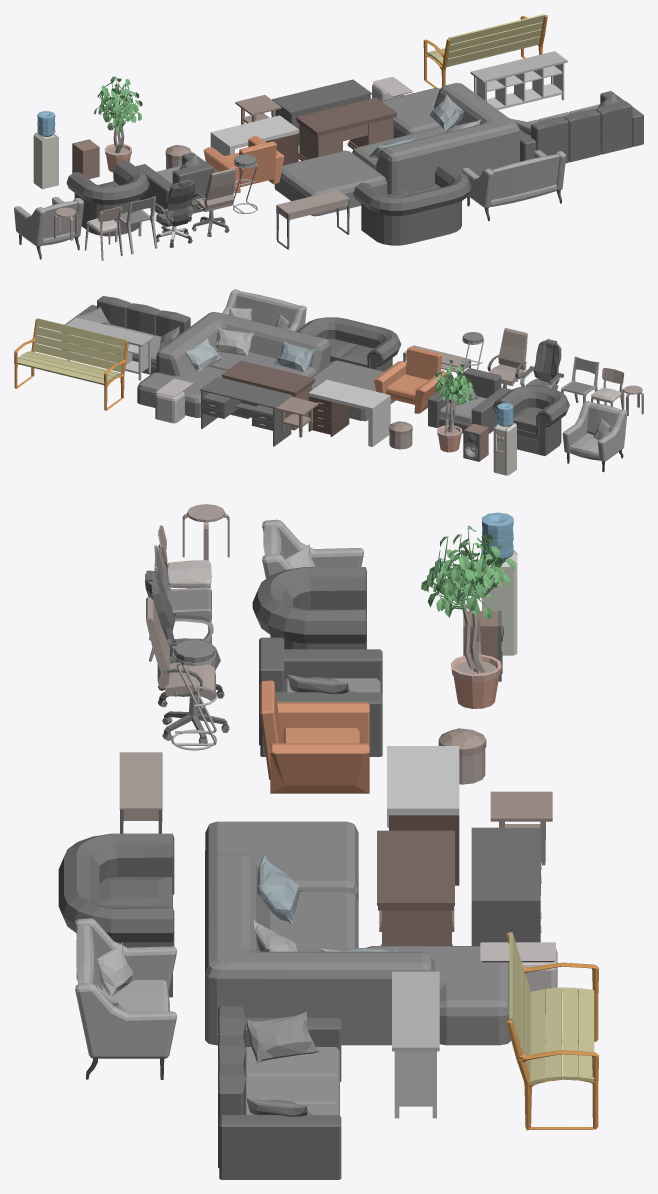
File: props1.glb
3 renders of one model, top to bottom at view 1: azimuth 30°, elevation 25°; view 2: azimuth 150°, elevation 25°; view 3: azimuth 270°, elevation 25°, orthographic. The views are drawn at different scales.
Parts seen in each view (by area): view 1: furniture_couch_corner, furniture_chair_styled, furniture_couch_basic, furniture_desk_office.001, furniture_chair_basic, furniture_table_cubby, furniture_bench_outdoor, furniture_chair_styled.001, furniture_desk_office.002, furniture_chair_basic.002, furniture_desk_office, prop_tree (+13 smaller); view 2: furniture_couch_corner, furniture_bench_outdoor, furniture_desk_office, furniture_desk_office.002, furniture_chair_styled.001, furniture_chair_styled, furniture_couch_basic, furniture_chair_basic.002, furniture_chair_lazyboy, furniture_chair_basic.001, furniture_chair_basic, furniture_desk_office.001 (+13 smaller); view 3: furniture_couch_corner, furniture_couch_basic, furniture_chair_styled, furniture_chair_basic, furniture_bench_outdoor, furniture_chair_lazyboy, furniture_desk_office.001, furniture_chair_styled.001, furniture_desk_office, furniture_chair_basic.001, prop_tree, furniture_desk_office.002 (+13 smaller).
Part boxes in pixels (<box>): furniture_couch_corner: <box>274,77,519,216</box>; furniture_chair_styled: <box>353,162,471,245</box>; furniture_couch_basic: <box>509,91,643,163</box>; furniture_desk_office.001: <box>296,97,397,160</box>; furniture_chair_basic: <box>462,150,566,220</box>; furniture_table_cubby: <box>470,51,567,109</box>; furniture_bench_outdoor: <box>423,14,547,87</box>; furniture_chair_styled.001: <box>66,160,149,236</box>; furniture_desk_office.002: <box>210,115,299,165</box>; furniture_chair_basic.002: <box>14,197,83,259</box>; furniture_desk_office: <box>272,79,371,144</box>; prop_tree: <box>94,76,142,172</box>; furniture_couch_corner: <box>137,312,395,423</box>; furniture_bench_outdoor: <box>14,318,128,410</box>; furniture_desk_office: <box>200,377,292,446</box>; furniture_desk_office.002: <box>308,379,390,446</box>; furniture_chair_styled.001: <box>493,386,569,455</box>; furniture_chair_styled: <box>296,317,401,371</box>; furniture_couch_basic: <box>61,296,190,374</box>; furniture_chair_basic.002: <box>562,401,627,472</box>; furniture_chair_lazyboy: <box>374,346,446,413</box>; furniture_chair_basic.001: <box>428,368,510,433</box>; furniture_chair_basic: <box>222,289,306,331</box>; furniture_desk_office.001: <box>221,360,315,430</box>; furniture_couch_corner: <box>205,821,557,1045</box>; furniture_couch_basic: <box>218,1006,341,1179</box>; furniture_chair_styled: <box>58,833,174,997</box>; furniture_chair_basic: <box>75,918,176,1079</box>; furniture_bench_outdoor: <box>506,932,599,1130</box>; furniture_chair_lazyboy: <box>260,680,369,793</box>; furniture_desk_office.001: <box>377,830,454,945</box>; furniture_chair_styled.001: <box>252,567,366,649</box>; furniture_desk_office: <box>471,827,541,945</box>; furniture_chair_basic.001: <box>259,637,382,756</box>; prop_tree: <box>421,525,515,708</box>; furniture_desk_office.002: <box>387,746,459,885</box>.
Size of the model in its own units: 9.2 by 1.97 by 3.92.
